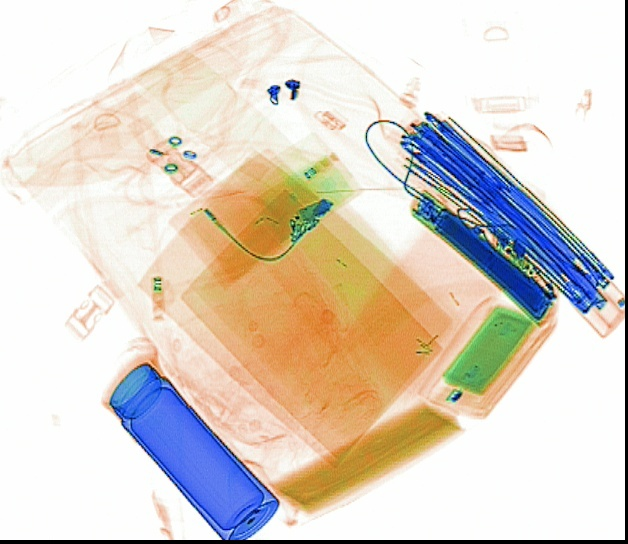powerbank: (406, 186, 561, 327)
